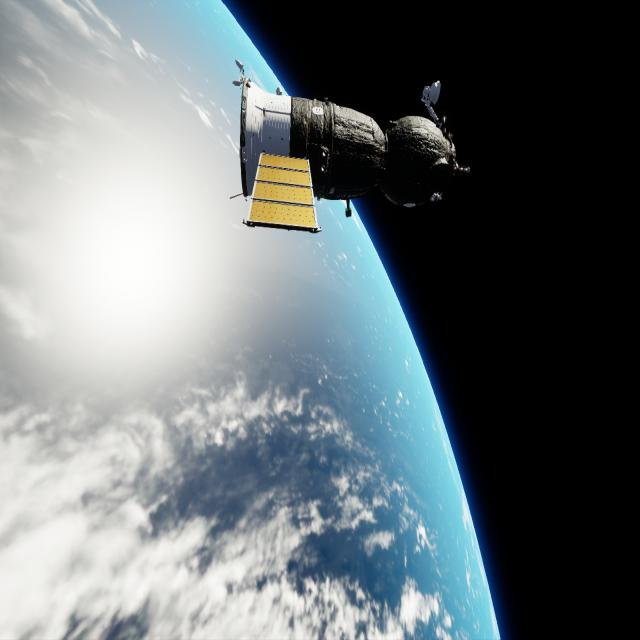Satellites revolving around earth: (228, 56, 468, 237)
